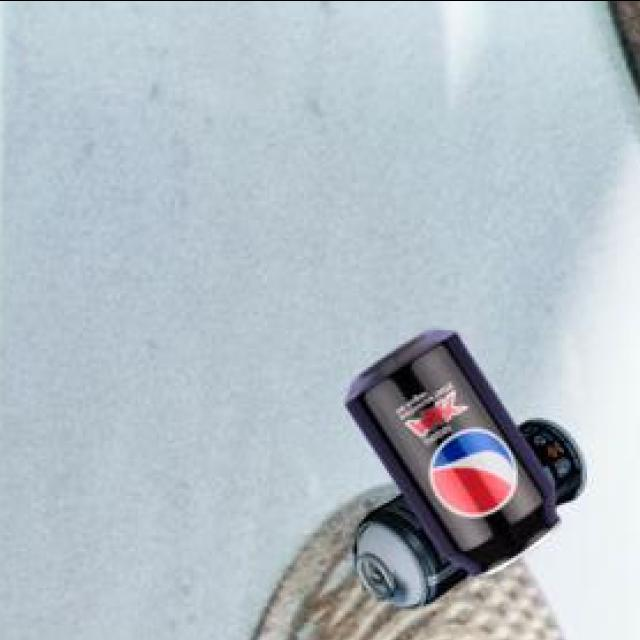logam: (349, 333, 563, 579), (358, 478, 473, 614), (454, 422, 588, 509)
